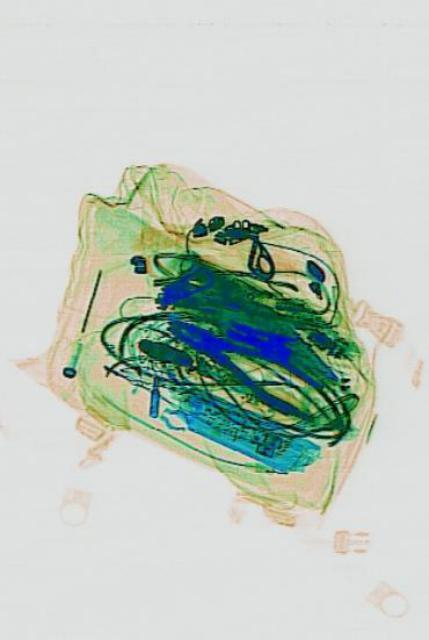Pliers: (159, 298, 322, 426)
